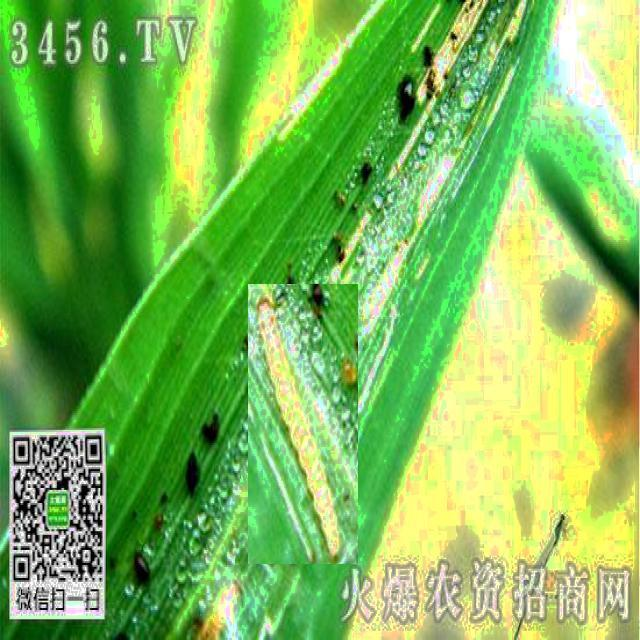leaf-folder: (248, 285, 358, 565)
